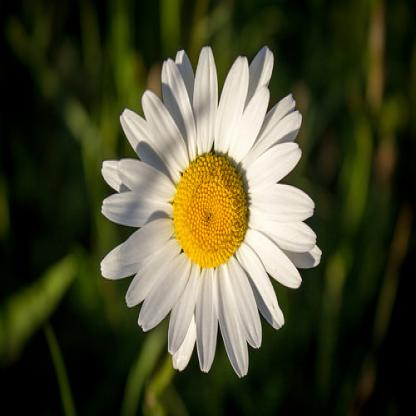ASTER: (83, 32, 337, 393)
